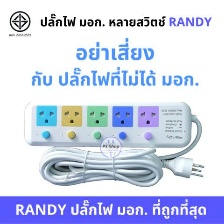three_eye_plug: (21, 97, 194, 150)
